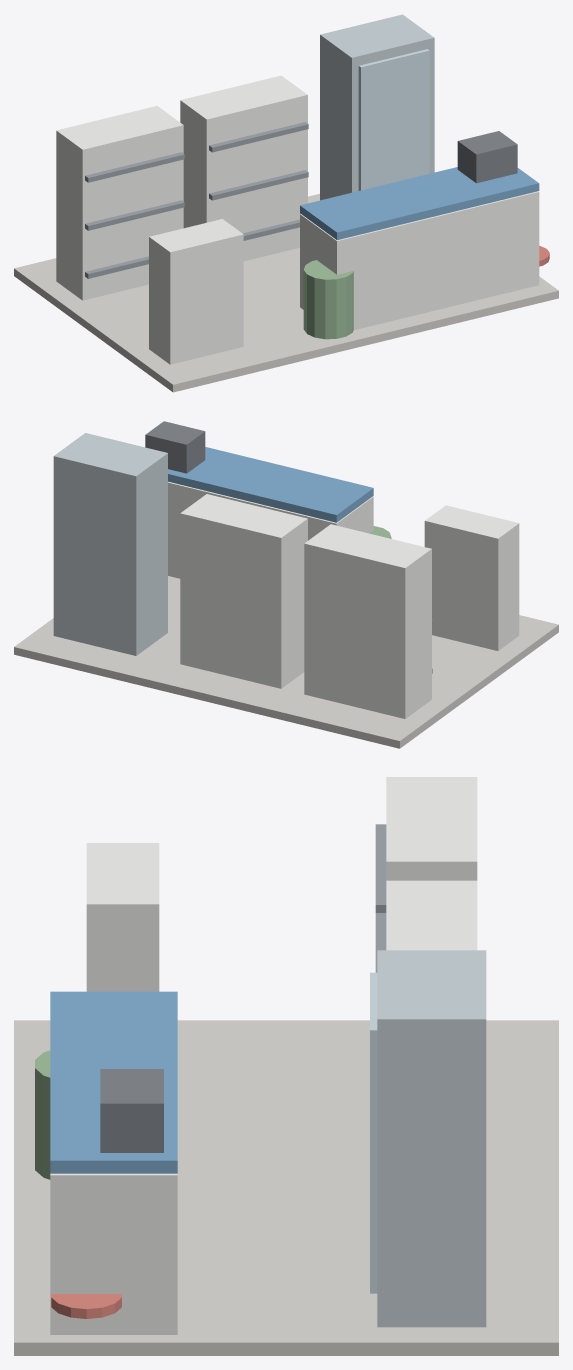
Rendered from webtoon_convenience_store_fixture_cluster.glb.
The picture shows the model from 3 angles, top to bottom: view 1: azimuth 30°, elevation 25°; view 2: azimuth 150°, elevation 25°; view 3: azimuth 270°, elevation 25°; orthographic projection. The views are drawn at different scales.
Parts seen in each view (by area): view 1: shelf unit (×2), store floor, checkout counter, microwave shelf unit, drinks fridge, fridge glass, counter top, shelf edge (×6), recycle bin, register; view 2: shelf unit (×2), drinks fridge, store floor, microwave shelf unit, counter top, checkout counter, register; view 3: store floor, drinks fridge, checkout counter, counter top, shelf unit (×2), microwave shelf unit, register, fridge glass, recycle bin, basket stack, shelf edge.
Part boxes in pixels (box(x1,y1,x2,y2)): shelf unit (×2): box(56, 75, 307, 300); store floor: box(14, 194, 558, 392); checkout counter: box(300, 191, 539, 330); microwave shelf unit: box(149, 219, 243, 364); drinks fridge: box(320, 14, 434, 200); fridge glass: box(358, 49, 429, 190); counter top: box(300, 167, 539, 240); shelf edge (×6): box(85, 122, 308, 278); recycle bin: box(303, 260, 353, 339); register: box(457, 131, 517, 183); shelf unit (×2): box(180, 494, 431, 718); drinks fridge: box(53, 433, 167, 655); store floor: box(14, 576, 558, 748); microwave shelf unit: box(424, 505, 519, 650); counter top: box(168, 447, 373, 522); checkout counter: box(168, 481, 373, 578); register: box(145, 421, 205, 473); store floor: box(14, 1020, 558, 1355); drinks fridge: box(377, 950, 486, 1327); checkout counter: box(50, 1173, 177, 1334); counter top: box(50, 991, 177, 1173); shelf unit (×2): box(386, 777, 477, 950); microwave shelf unit: box(86, 843, 159, 991); register: box(100, 1069, 163, 1152); fridge glass: box(370, 972, 377, 1293); recycle bin: box(35, 1050, 50, 1179); basket stack: box(51, 1294, 121, 1318); shelf edge: box(375, 824, 386, 912).
Bounding box in the file's own units: 4.3 × 1.95 × 3.
